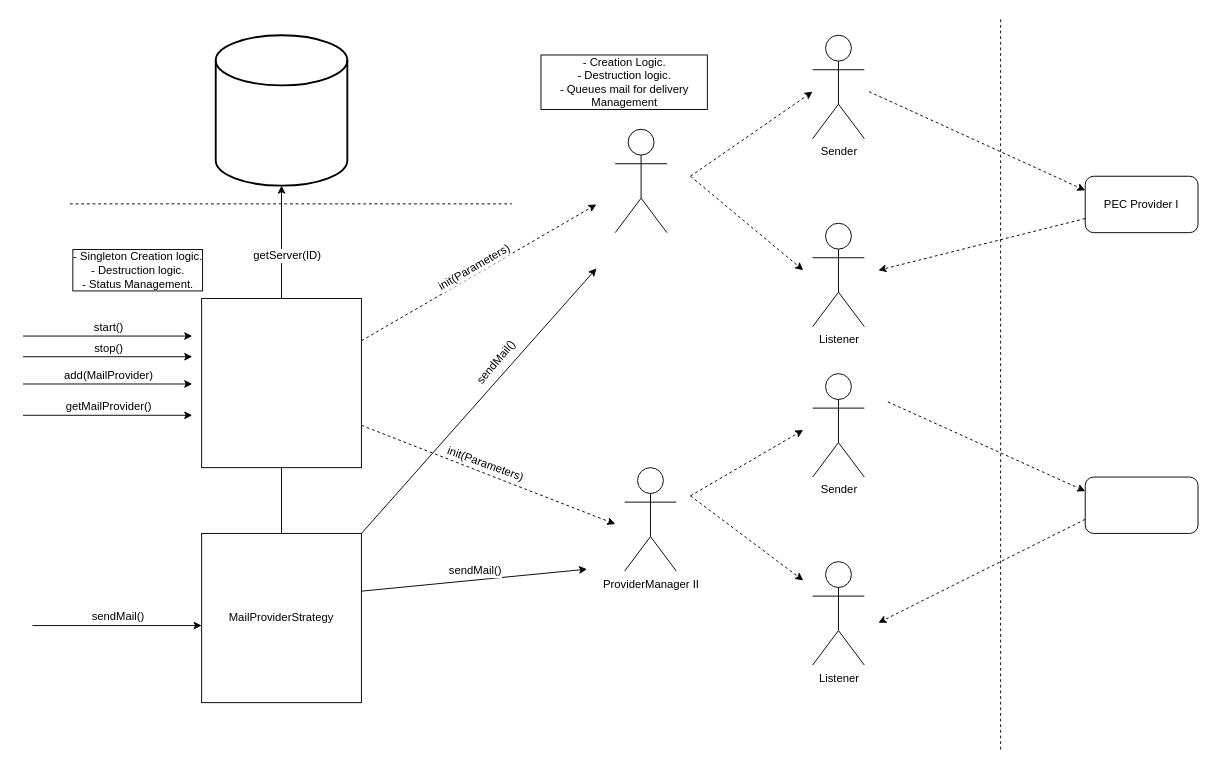
Image size: 1214x767. Some labels were removed from this diagram. The shapes that lost their labels are listed below. From the top down, each one's box as (x1, y1, x2, y2) in pixels, then its label:
(214, 34, 348, 186): BD
(614, 128, 667, 233): ProviderManager I
(201, 298, 361, 468): MailProviderFactory
(1084, 476, 1198, 533): PEC Provider II
